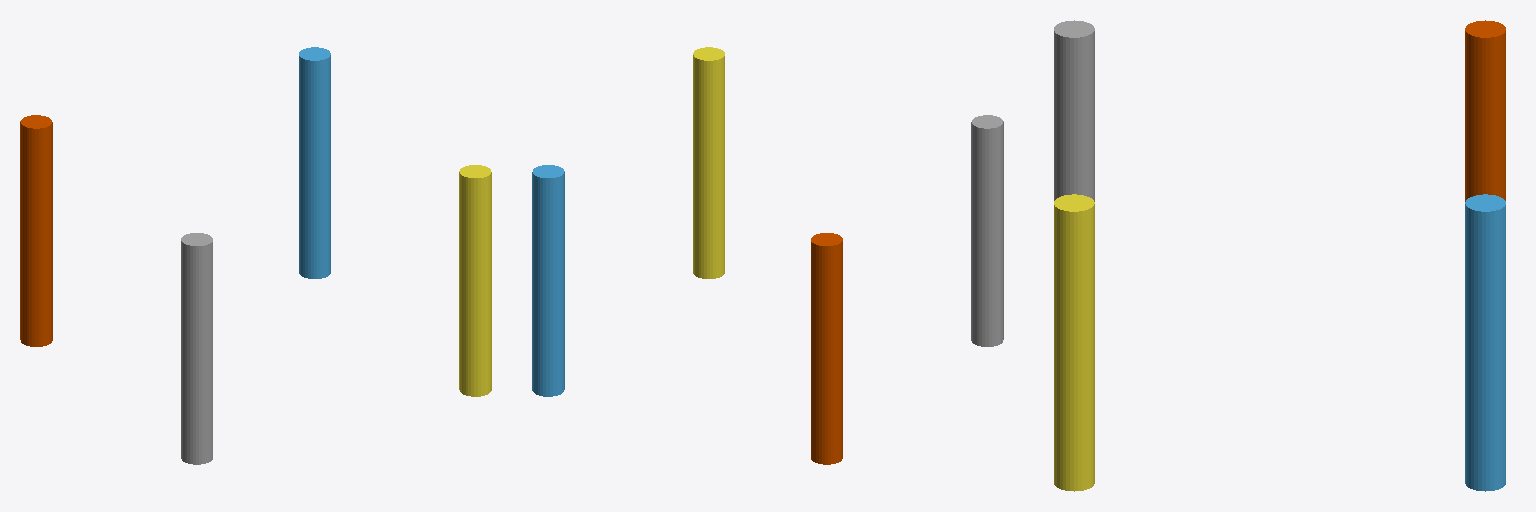
robot.urdf — Vapor_X5:
<?xml version="1.0"?>
<robot name="Vapor_X5" xmlns:xacro="http://www.ros.org/wiki/xacro">

  <!-- Corps central -->
  <link name="base_link">
    <inertial>
      <origin xyz="0 0 0" rpy="0 0 0"/>
      <mass value="0.6"/> <!-- kg -->
      <inertia ixx="0.002" ixy="0" ixz="0" iyy="0.002" iyz="0" izz="0.004"/>
    </inertial>
    <visual>
      <origin xyz="0 0 0" rpy="0 0 0"/>
      <geometry>
        <mesh filename="package://my_drone/meshes/body.stl" scale="1 1 1"/>
      </geometry>
    </visual>
    <collision>
      <origin xyz="0 0 0" rpy="0 0 0"/>
      <geometry>
        <box size="0.2 0.2 0.05"/>
      </geometry>
    </collision>
  </link>

  <!-- ==== BRAS & ROTORS ==== -->
  <!-- Bras avant gauche -->
  <link name="arm_fl">
    <inertial>
      <origin xyz="0 0 0" rpy="0 0 0"/>
      <mass value="0.05"/>
      <inertia ixx="0.0001" ixy="0" ixz="0" iyy="0.0001" iyz="0" izz="0.0001"/>
    </inertial>
    <visual>
      <geometry>
        <cylinder radius="0.01" length="0.15"/>
      </geometry>
    </visual>
    <collision>
      <geometry>
        <cylinder radius="0.01" length="0.15"/>
      </geometry>
    </collision>
  </link>

  <joint name="joint_arm_fl" type="fixed">
    <parent link="base_link"/>
    <child link="arm_fl"/>
    <origin xyz="0.1 0.1 0" rpy="0 0 0"/>
  </joint>

  <link name="rotor_fl">
    <inertial>
      <origin xyz="0 0 0" rpy="0 0 0"/>
      <mass value="0.01"/>
      <inertia ixx="0.00001" ixy="0" ixz="0" iyy="0.00001" iyz="0" izz="0.00002"/>
    </inertial>
    <visual>
      <geometry>
        <mesh filename="package://my_drone/meshes/propeller.stl" scale="1 1 1"/>
      </geometry>
    </visual>
    <collision>
      <geometry>
        <cylinder radius="0.05" length="0.005"/>
      </geometry>
    </collision>
  </link>

  <joint name="joint_rotor_fl" type="continuous">
    <parent link="arm_fl"/>
    <child link="rotor_fl"/>
    <origin xyz="0.075 0 0" rpy="0 0 0"/>
    <axis xyz="0 0 1"/>
  </joint>

  <!-- Bras avant droit -->
  <link name="arm_fr">
    <inertial>
      <mass value="0.05"/>
      <inertia ixx="0.0001" ixy="0" ixz="0" iyy="0.0001" iyz="0" izz="0.0001"/>
    </inertial>
    <visual>
      <geometry>
        <cylinder radius="0.01" length="0.15"/>
      </geometry>
    </visual>
    <collision>
      <geometry>
        <cylinder radius="0.01" length="0.15"/>
      </geometry>
    </collision>
  </link>

  <joint name="joint_arm_fr" type="fixed">
    <parent link="base_link"/>
    <child link="arm_fr"/>
    <origin xyz="0.1 -0.1 0" rpy="0 0 0"/>
  </joint>

  <link name="rotor_fr">
    <inertial>
      <mass value="0.01"/>
      <inertia ixx="0.00001" ixy="0" ixz="0" iyy="0.00001" iyz="0" izz="0.00002"/>
    </inertial>
    <visual>
      <geometry>
        <mesh filename="package://my_drone/meshes/propeller.stl" scale="1 1 1"/>
      </geometry>
    </visual>
    <collision>
      <geometry>
        <cylinder radius="0.05" length="0.005"/>
      </geometry>
    </collision>
  </link>

  <joint name="joint_rotor_fr" type="continuous">
    <parent link="arm_fr"/>
    <child link="rotor_fr"/>
    <origin xyz="0.075 0 0" rpy="0 0 0"/>
    <axis xyz="0 0 1"/>
  </joint>

  <!-- Bras arrière gauche -->
  <link name="arm_bl">
    <inertial>
      <mass value="0.05"/>
      <inertia ixx="0.0001" ixy="0" ixz="0" iyy="0.0001" iyz="0" izz="0.0001"/>
    </inertial>
    <visual>
      <geometry>
        <cylinder radius="0.01" length="0.15"/>
      </geometry>
    </visual>
    <collision>
      <geometry>
        <cylinder radius="0.01" length="0.15"/>
      </geometry>
    </collision>
  </link>

  <joint name="joint_arm_bl" type="fixed">
    <parent link="base_link"/>
    <child link="arm_bl"/>
    <origin xyz="-0.1 0.1 0" rpy="0 0 0"/>
  </joint>

  <link name="rotor_bl">
    <inertial>
      <mass value="0.01"/>
      <inertia ixx="0.00001" ixy="0" ixz="0" iyy="0.00001" iyz="0" izz="0.00002"/>
    </inertial>
    <visual>
      <geometry>
        <mesh filename="package://my_drone/meshes/propeller.stl" scale="1 1 1"/>
      </geometry>
    </visual>
    <collision>
      <geometry>
        <cylinder radius="0.05" length="0.005"/>
      </geometry>
    </collision>
  </link>

  <joint name="joint_rotor_bl" type="continuous">
    <parent link="arm_bl"/>
    <child link="rotor_bl"/>
    <origin xyz="-0.075 0 0" rpy="0 0 0"/>
    <axis xyz="0 0 1"/>
  </joint>

  <!-- Bras arrière droit -->
  <link name="arm_br">
    <inertial>
      <mass value="0.05"/>
      <inertia ixx="0.0001" ixy="0" ixz="0" iyy="0.0001" iyz="0" izz="0.0001"/>
    </inertial>
    <visual>
      <geometry>
        <cylinder radius="0.01" length="0.15"/>
      </geometry>
    </visual>
    <collision>
      <geometry>
        <cylinder radius="0.01" length="0.15"/>
      </geometry>
    </collision>
  </link>

  <joint name="joint_arm_br" type="fixed">
    <parent link="base_link"/>
    <child link="arm_br"/>
    <origin xyz="-0.1 -0.1 0" rpy="0 0 0"/>
  </joint>

  <link name="rotor_br">
    <inertial>
      <mass value="0.01"/>
      <inertia ixx="0.00001" ixy="0" ixz="0" iyy="0.00001" iyz="0" izz="0.00002"/>
    </inertial>
    <visual>
      <geometry>
        <mesh filename="package://my_drone/meshes/propeller.stl" scale="1 1 1"/>
      </geometry>
    </visual>
    <collision>
      <geometry>
        <cylinder radius="0.05" length="0.005"/>
      </geometry>
    </collision>
  </link>

  <joint name="joint_rotor_br" type="continuous">
    <parent link="arm_br"/>
    <child link="rotor_br"/>
    <origin xyz="-0.075 0 0" rpy="0 0 0"/>
    <axis xyz="0 0 1"/>
  </joint>

</robot>

--- Facts derived from the render (not from the file) ---
3 views of the same robot in one strip: view 1: azimuth 30°, elevation 25°; view 2: azimuth 150°, elevation 25°; view 3: azimuth 270°, elevation 25° (orthographic).
Model Vapor_X5 with 9 links and 8 joints (4 continuous, 4 fixed), rooted at base_link, posed all joints at 0.
Visible links, largest first — view 1: arm_fr, arm_bl, arm_fl, arm_br; view 2: arm_fl, arm_br, arm_fr, arm_bl; view 3: arm_fl, arm_fr, arm_bl, arm_br.
Link boxes in pixels (x1=…): arm_fr: x1=459, y1=165, x2=491, y2=396; arm_bl: x1=20, y1=115, x2=52, y2=346; arm_fl: x1=299, y1=47, x2=330, y2=278; arm_br: x1=181, y1=233, x2=212, y2=464; arm_fl: x1=532, y1=165, x2=564, y2=396; arm_br: x1=971, y1=115, x2=1003, y2=346; arm_fr: x1=693, y1=47, x2=724, y2=278; arm_bl: x1=811, y1=233, x2=842, y2=464; arm_fl: x1=1465, y1=194, x2=1505, y2=491; arm_fr: x1=1054, y1=194, x2=1094, y2=491; arm_bl: x1=1465, y1=20, x2=1505, y2=201; arm_br: x1=1054, y1=20, x2=1094, y2=201.
Bounding box of the posed robot: 0.22 × 0.22 × 0.15 m (x, y, z).
0 mesh visuals loaded from 2 distinct referenced files (none loaded); not drawn: 5 (reference not matched to a file when rendering).